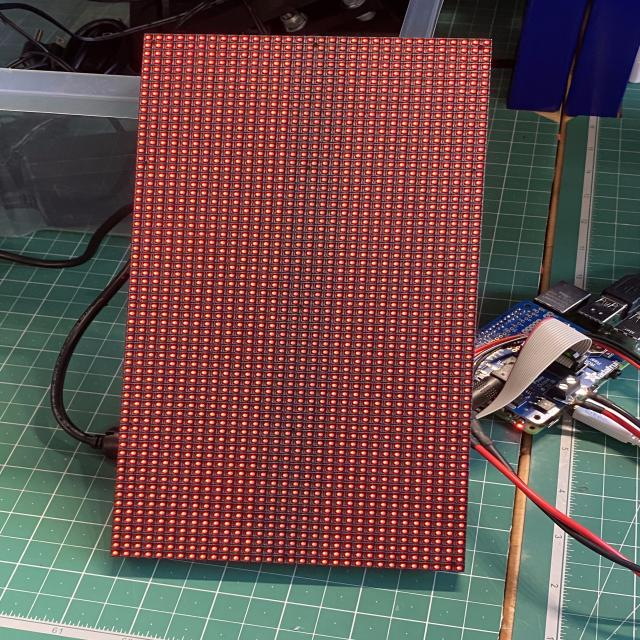matrix: (104, 19, 491, 586)
